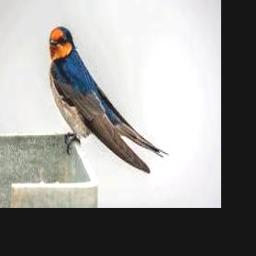Swallow: (50, 26, 169, 174)
